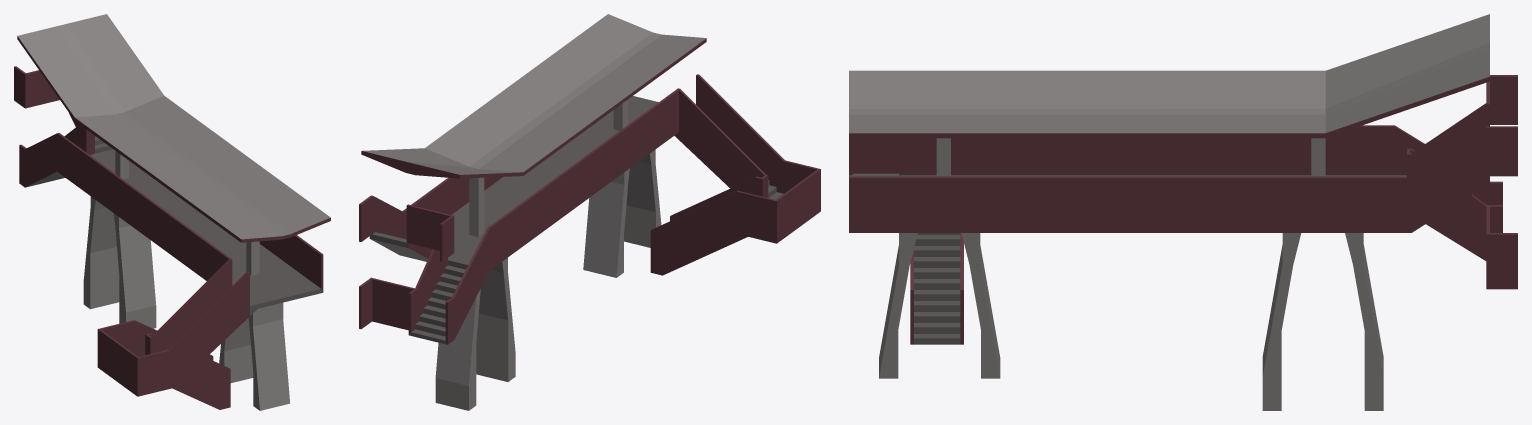
The model's file is trainstation-oberpass-start.fbx.
The picture shows the model from 3 angles, left to right: view 1: azimuth 30°, elevation 25°; view 2: azimuth 150°, elevation 25°; view 3: azimuth 270°, elevation 25°; orthographic projection. The views are drawn at different scales.
Visible parts, largest first — view 1: trainstation-oberpass-start; view 2: trainstation-oberpass-start; view 3: trainstation-oberpass-start.
Boxes of the visible parts, x1=… form: trainstation-oberpass-start: x1=14, y1=14, x2=330, y2=410; trainstation-oberpass-start: x1=359, y1=14, x2=820, y2=410; trainstation-oberpass-start: x1=849, y1=14, x2=1517, y2=410.
Bounding box in the file's own units: 8.95 × 11 × 18.75.
